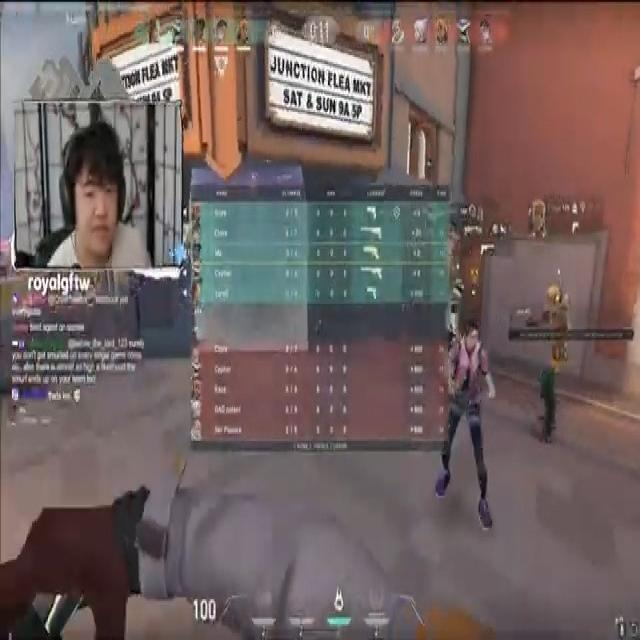ally: (434, 321, 510, 534), (521, 273, 579, 449)
